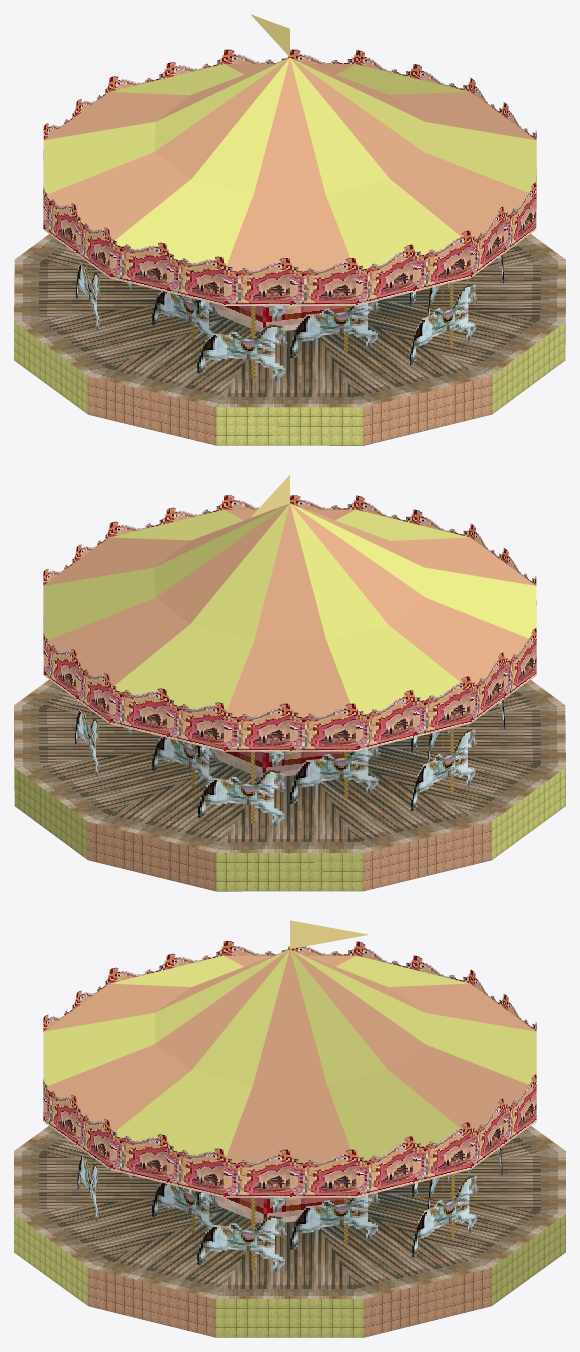
The model's file is uvmd-0016.glb.
3 renders of one model, top to bottom at view 1: azimuth 30°, elevation 25°; view 2: azimuth 150°, elevation 25°; view 3: azimuth 270°, elevation 25°, orthographic.
Visible parts, largest first — view 1: uvmd-0016; view 2: uvmd-0016; view 3: uvmd-0016.
Part boxes in pixels (x1=…): uvmd-0016: x1=14, y1=14, x2=565, y2=445; uvmd-0016: x1=14, y1=475, x2=565, y2=891; uvmd-0016: x1=14, y1=920, x2=565, y2=1337.
Size of the model in its own units: 208 by 125 by 208.
Materials: 5 (5 with a texture image).
